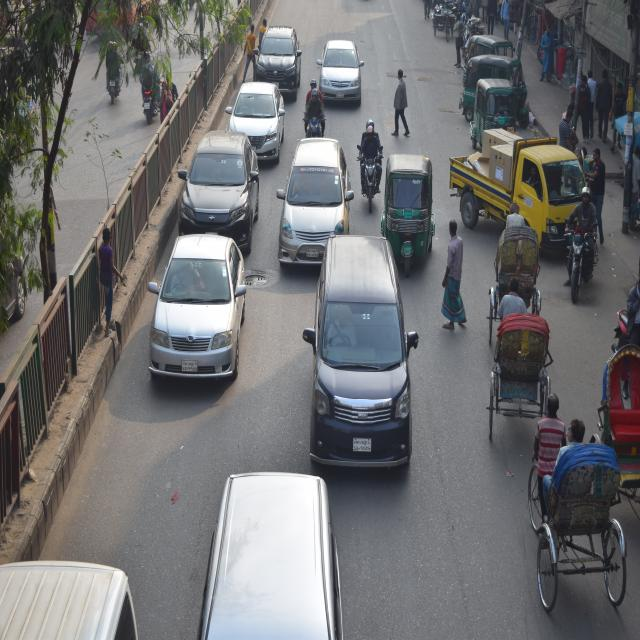car: (153, 235, 251, 389), (182, 128, 264, 238), (222, 72, 291, 161), (250, 14, 306, 98), (318, 33, 372, 110)
microbus: (192, 459, 364, 640), (304, 231, 419, 477), (274, 134, 353, 266)
motorbike: (353, 120, 386, 210)
